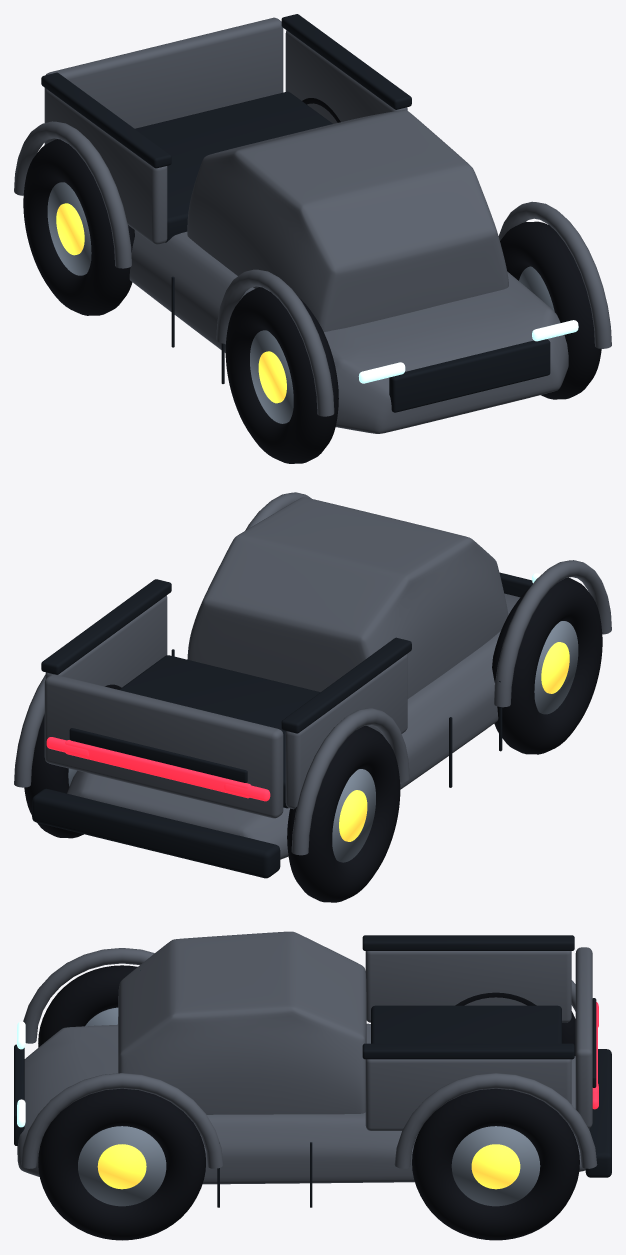
Rendered from rainline_irontrail_x_v4.glb.
The picture shows the model from 3 angles, top to bottom: view 1: azimuth 30°, elevation 25°; view 2: azimuth 150°, elevation 25°; view 3: azimuth 270°, elevation 25°; orthographic projection. The views are drawn at different scales.
Parts seen in each view (by area): view 1: Irontrail tall crew cab, Irontrail broad chassis, Irontrail tall tailgate, Irontrail performance tire, Irontrail performance tire.001, Irontrail open cargo bed, Irontrail performance tire.002, Irontrail grille, Irontrail cargo-bed side, Irontrail cargo-bed side.001, Irontrail painted fender.001, Irontrail painted fender (+9 smaller); view 2: Irontrail tall crew cab, Irontrail tall tailgate, Irontrail broad chassis, Irontrail performance tire, Irontrail performance tire.001, Irontrail bumper, Irontrail open cargo bed, Irontrail cargo-bed side, Irontrail cargo-bed side.001, Irontrail painted fender.001, Irontrail painted fender, Irontrail bed rail.001 (+10 smaller); view 3: Irontrail tall crew cab, Irontrail broad chassis, Irontrail performance tire.003, Irontrail performance tire.002, Irontrail cargo-bed side, Irontrail open cargo bed, Irontrail cargo-bed side.001, Irontrail painted fender.002, Irontrail painted fender.003, Irontrail alloy wheel.003, Irontrail alloy wheel.002, Irontrail performance tire (+11 smaller).
Part boxes in pixels (box(x1,y1,x2,y2)): Irontrail tall crew cab: box(187, 110, 508, 331); Irontrail broad chassis: box(129, 230, 568, 433); Irontrail tall tailgate: box(44, 17, 283, 144); Irontrail performance tire: box(225, 287, 338, 463); Irontrail performance tire.001: box(23, 139, 134, 315); Irontrail open cargo bed: box(135, 91, 332, 242); Irontrail performance tire.002: box(500, 221, 601, 399); Irontrail grille: box(389, 339, 550, 412); Irontrail cargo-bed side: box(45, 89, 167, 244); Irontrail cargo-bed side.001: box(285, 30, 407, 123); Irontrail painted fender.001: box(14, 121, 131, 268); Irontrail painted fender: box(216, 269, 334, 416); Irontrail tall crew cab: box(187, 497, 508, 698); Irontrail tall tailgate: box(44, 674, 283, 818); Irontrail broad chassis: box(67, 593, 520, 859); Irontrail performance tire: box(492, 577, 602, 754); Irontrail performance tire.001: box(287, 726, 400, 902); Irontrail bumper: box(32, 788, 280, 878); Irontrail open cargo bed: box(119, 655, 320, 808); Irontrail cargo-bed side: box(285, 654, 407, 809); Irontrail cargo-bed side.001: box(45, 595, 167, 687); Irontrail painted fender.001: box(291, 708, 409, 855); Irontrail painted fender: box(494, 560, 611, 707); Irontrail bed rail.001: box(41, 579, 171, 674); Irontrail tall crew cab: box(118, 931, 366, 1114); Irontrail broad chassis: box(17, 1023, 589, 1184); Irontrail performance tire.003: box(412, 1088, 579, 1240); Irontrail performance tire.002: box(38, 1088, 205, 1240); Irontrail cargo-bed side: box(365, 951, 571, 1022); Irontrail open cargo bed: box(371, 1005, 561, 1043); Irontrail cargo-bed side.001: box(365, 1059, 571, 1130); Irontrail painted fender.002: box(21, 1073, 223, 1168); Irontrail painted fender.003: box(394, 1073, 597, 1168); Irontrail alloy wheel.003: box(451, 1126, 540, 1206); Irontrail alloy wheel.002: box(78, 1126, 166, 1206); Irontrail performance tire: box(38, 965, 137, 1047).
Size of the model in its own units: 3.08 by 2.21 by 5.69.
